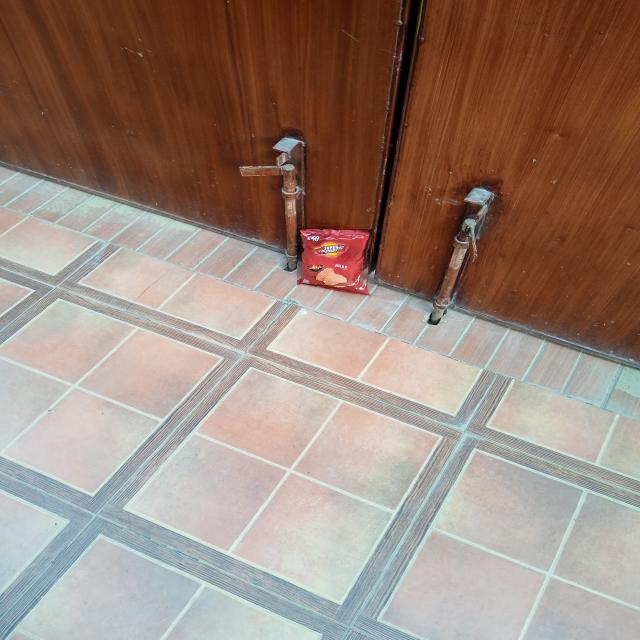Plastic: (297, 229, 373, 289)
